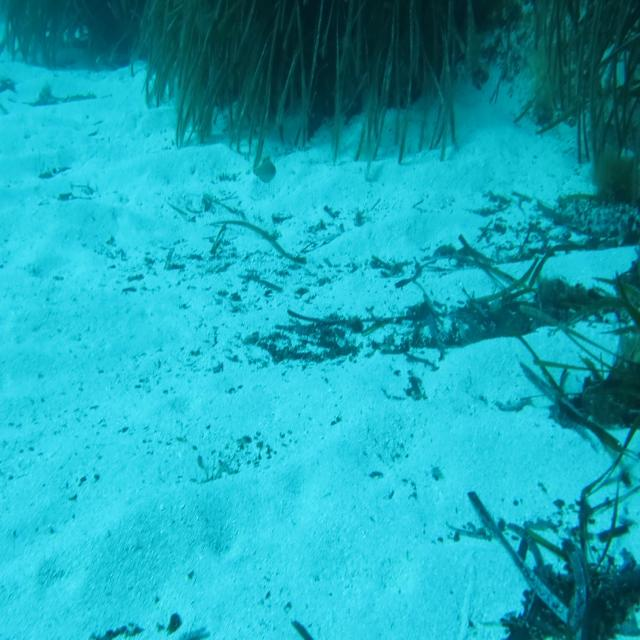SA: (252, 152, 279, 188)
vegetation: (163, 1, 531, 131), (467, 481, 640, 638), (533, 0, 638, 245), (258, 308, 472, 363), (474, 258, 640, 328), (549, 346, 640, 423), (0, 0, 159, 43)
